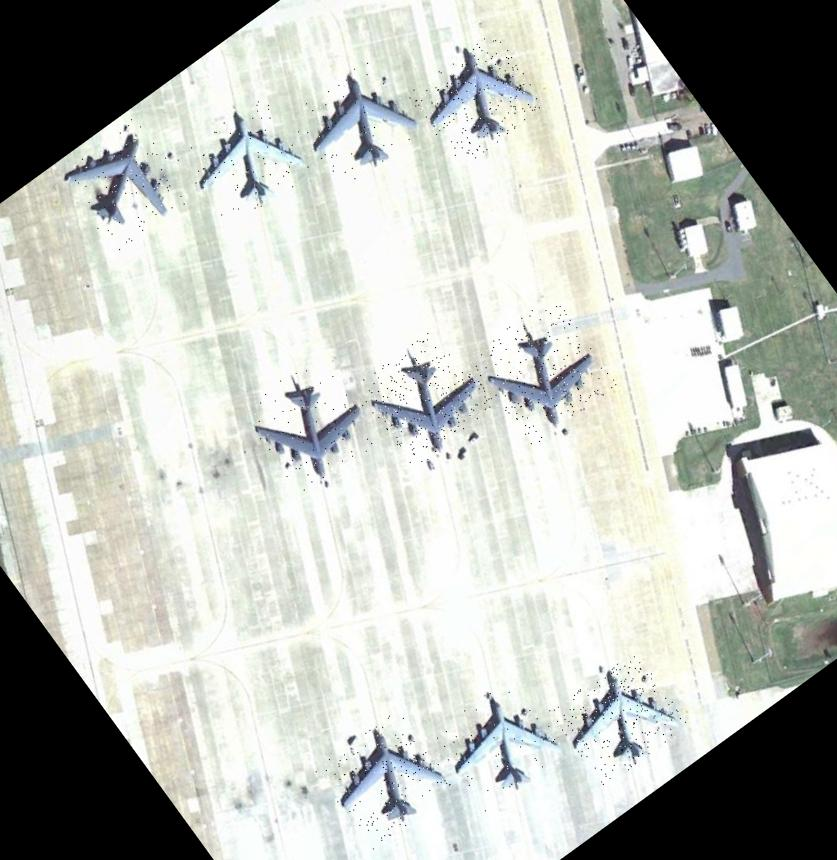A8: (466, 294, 618, 448), (236, 346, 386, 498), (352, 324, 500, 470), (546, 648, 690, 790), (314, 708, 458, 850), (175, 94, 317, 234), (285, 55, 426, 195), (429, 675, 570, 815), (406, 31, 548, 168), (56, 115, 194, 255)
